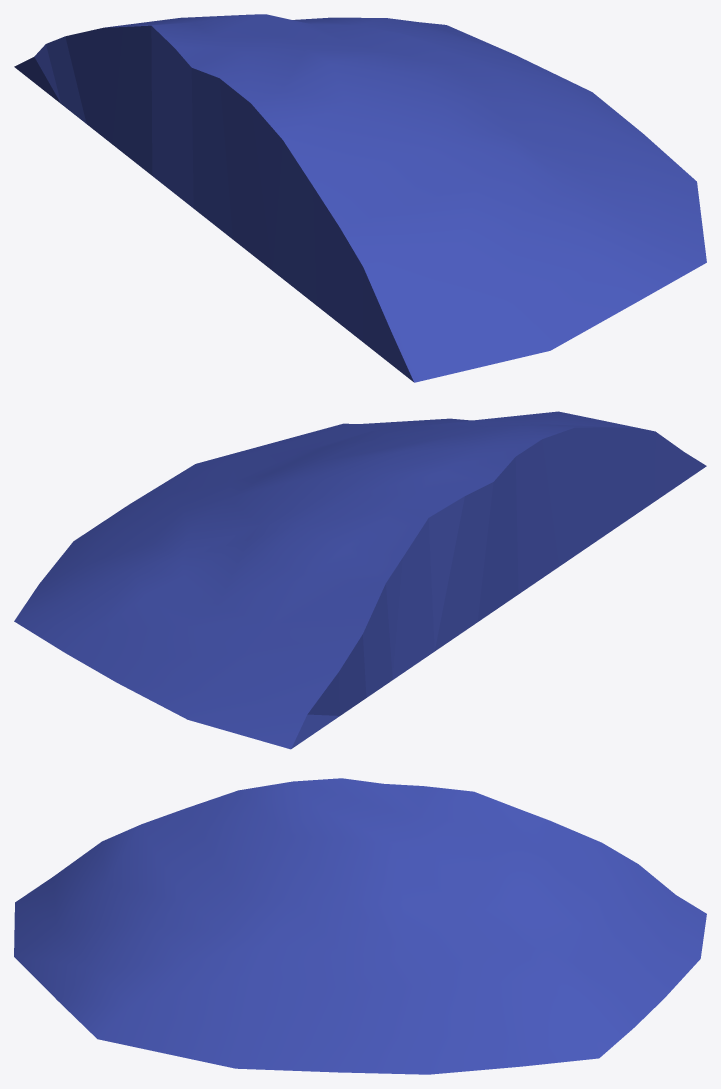
File: Rubble_03A_Lod0.fbx
3 renders of one model, top to bottom at view 1: azimuth 30°, elevation 25°; view 2: azimuth 150°, elevation 25°; view 3: azimuth 270°, elevation 25°, orthographic. The views are drawn at different scales.
Visible parts, largest first — view 1: Rubble_03A_Lod0; view 2: Rubble_03A_Lod0; view 3: Rubble_03A_Lod0.
Boxes of the visible parts, left/top/right/bottom form: Rubble_03A_Lod0: left=14, top=14, right=706, bottom=382; Rubble_03A_Lod0: left=14, top=411, right=706, bottom=749; Rubble_03A_Lod0: left=14, top=778, right=706, bottom=1074.
Bounding box in the file's own units: 130 × 45.24 × 222.
